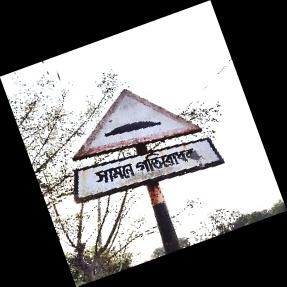Speed-breaker: (72, 88, 219, 204)
